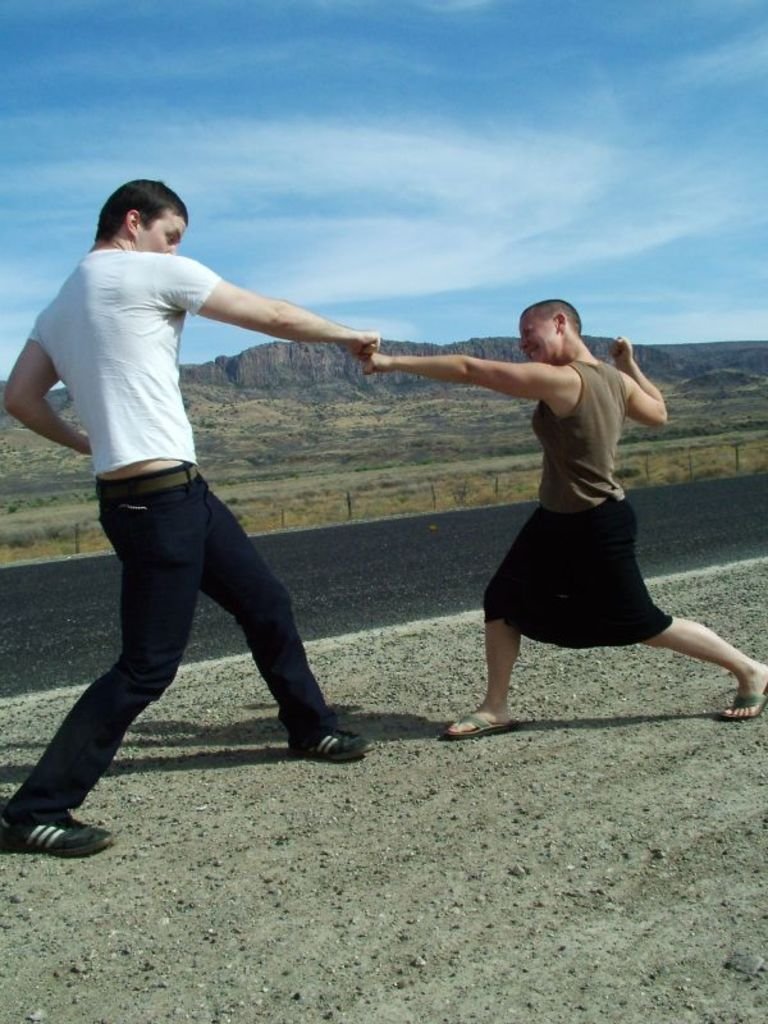Person: (353, 289, 768, 749)
